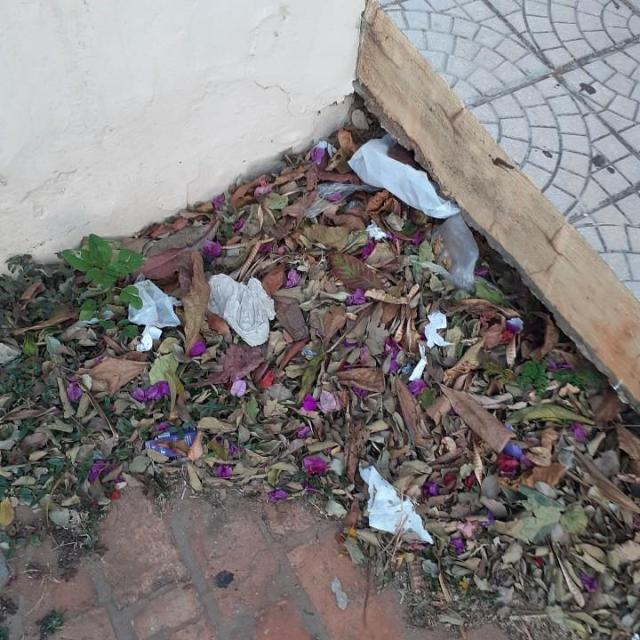litter: (344, 132, 463, 215), (357, 463, 435, 542), (205, 274, 278, 348), (427, 212, 478, 294), (405, 310, 453, 383), (127, 271, 180, 328), (141, 423, 207, 464), (135, 324, 164, 351)
